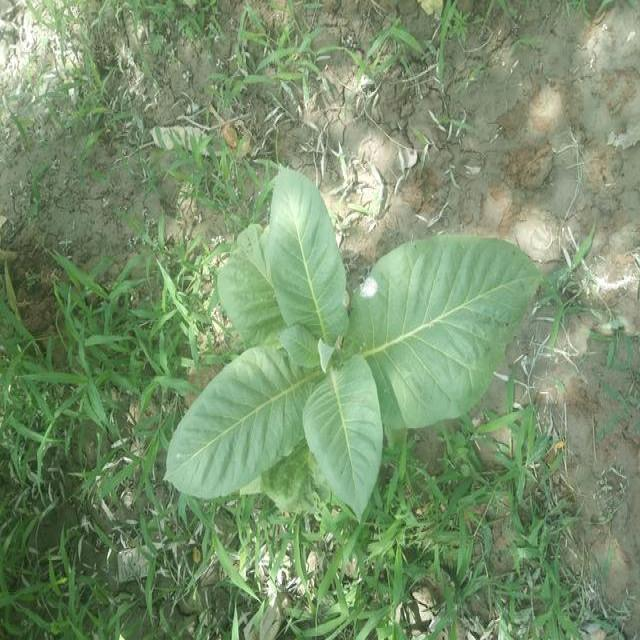crop: (178, 181, 533, 532)
